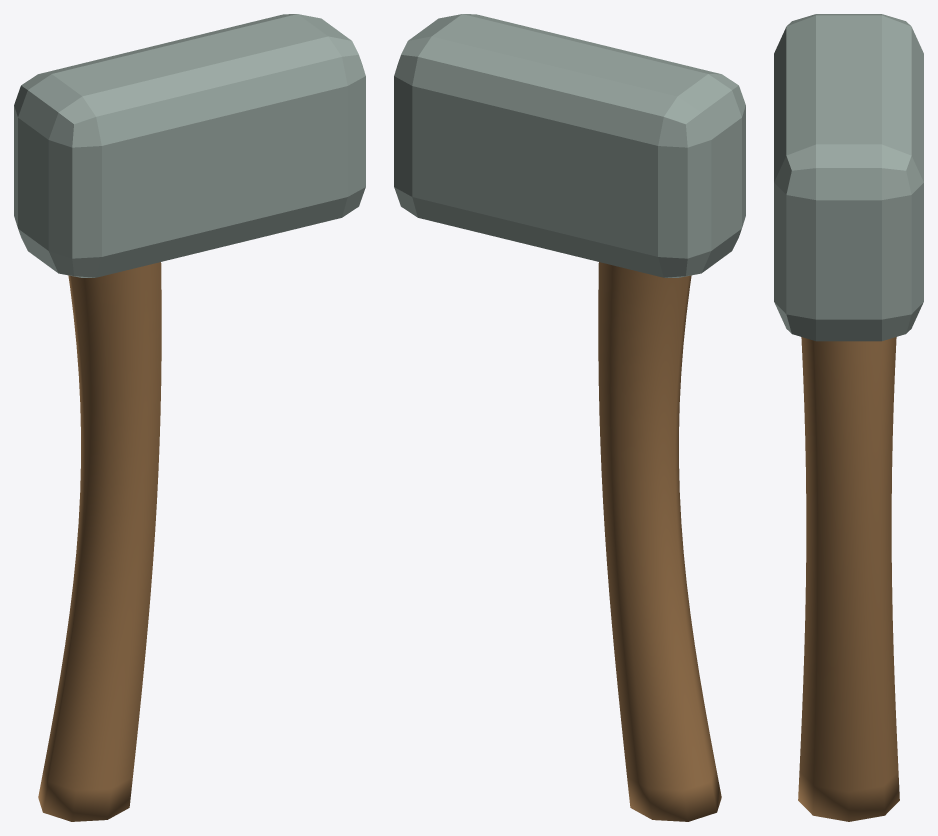
The model's file is direct-500.glb.
3 renders of one model, left to right at view 1: azimuth 30°, elevation 25°; view 2: azimuth 150°, elevation 25°; view 3: azimuth 270°, elevation 25°, orthographic. The views are drawn at different scales.
Visible parts, largest first — view 1: Cube.001, Handle.001; view 2: Cube.001, Handle.001; view 3: Cube.001, Handle.001.
Part boxes in pixels (box(x1,y1,x2,y2)): Cube.001: box(14, 14, 365, 277); Handle.001: box(38, 262, 161, 821); Cube.001: box(394, 14, 745, 277); Handle.001: box(598, 262, 721, 821); Cube.001: box(774, 14, 923, 341); Handle.001: box(798, 337, 899, 821).
Size of the model in its own units: 0.65 by 1.43 by 0.25.
